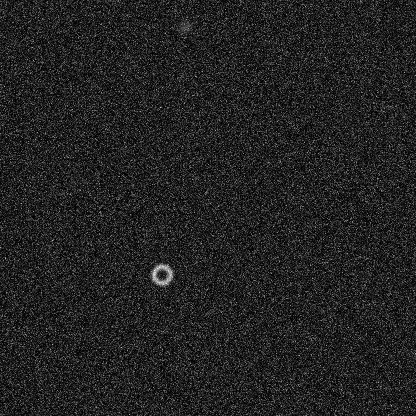Ring: (149, 262, 173, 286)
Spot: (176, 19, 192, 35)
